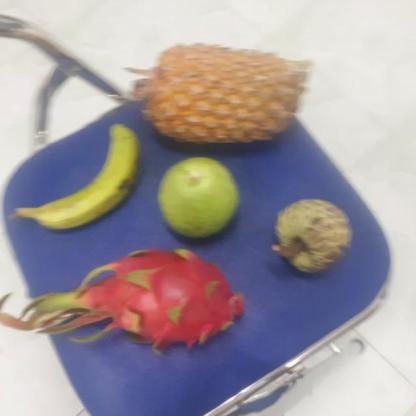annona: (273, 199, 352, 273)
guava: (158, 157, 242, 241)
pitaya: (85, 249, 249, 352)
